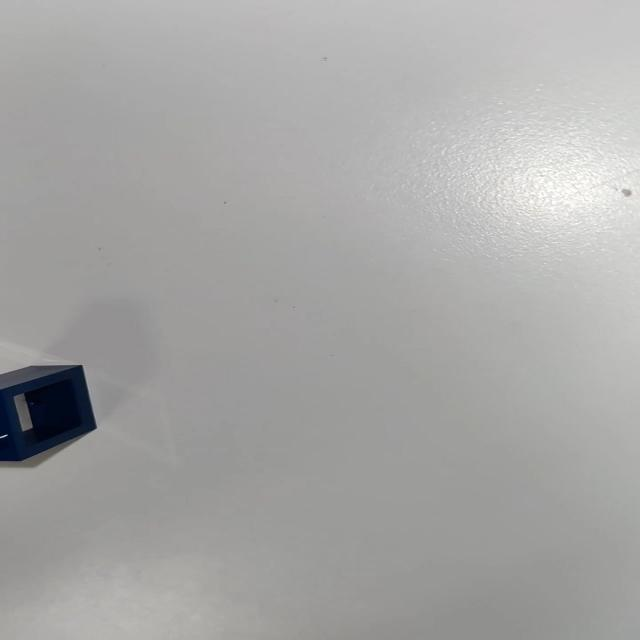W2x1x2: (1, 360, 109, 468)
